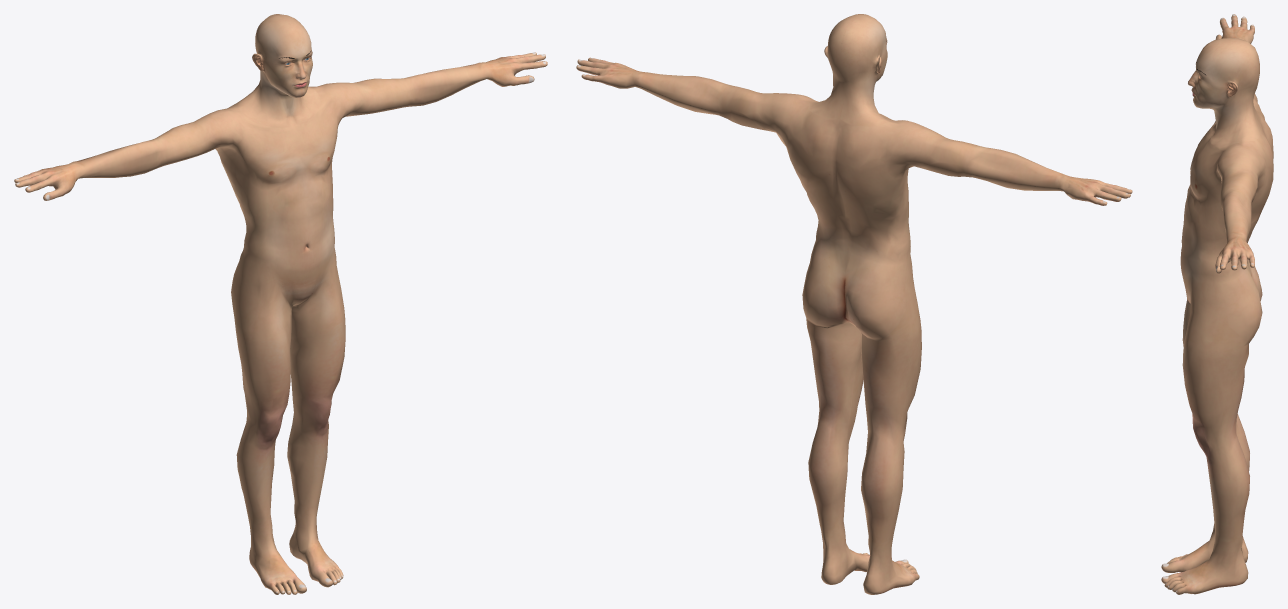
Rendered from manny.obj.
3 views of the same model, side by side, from view 1: azimuth 30°, elevation 25°; view 2: azimuth 150°, elevation 25°; view 3: azimuth 270°, elevation 25° (orthographic). The views are drawn at different scales.
Parts seen in each view (by area): view 1: l-upperleg-frontal-thigh, r-upperleg-frontal-thigh, r-lowerleg, l-lowerarm, l-lowerleg, r-lowerarm, l-hip-middle-abdomen, l-torso-upper-pectoralis, l-hip, l-upperarm-biceps, l-torso-clavicle, r-upperarm-biceps (+18 smaller); view 2: l-pelvis-gluteus, r-upperleg-thigh-back, l-upperleg-thigh-back, r-pelvis-gluteus, l-lowerleg-calf, r-lowerleg-calf, l-lowerarm, r-lowerarm, l-upperarm-triceps, l-torso-back-scapula, head-back-skull, l-upperleg-frontal-thigh (+21 smaller); view 3: r-upperleg-frontal-thigh, r-pelvis-gluteus, r-upperleg-thigh-back, r-lowerleg-calf, r-lowerleg, r-hip, r-lowerarm, r-torso-ribs, r-foot-ankle, r-torso-upper-shoulder, head-back-skull, head-upper-skull (+30 smaller).
Boxes of the visible parts, <box> form: l-upperleg-frontal-thigh: <box>236,261,291,444</box>; r-upperleg-frontal-thigh: <box>292,256,345,436</box>; r-lowerleg: <box>292,426,328,517</box>; l-lowerarm: <box>73,138,161,178</box>; l-lowerleg: <box>243,444,275,529</box>; r-lowerarm: <box>401,62,487,106</box>; l-hip-middle-abdomen: <box>266,211,307,260</box>; l-torso-upper-pectoralis: <box>240,124,301,162</box>; l-hip: <box>240,206,282,281</box>; l-upperarm-biceps: <box>156,130,233,167</box>; l-torso-clavicle: <box>228,97,295,137</box>; r-upperarm-biceps: <box>346,81,416,116</box>; l-pelvis-gluteus: <box>844,241,910,338</box>; r-upperleg-thigh-back: <box>805,315,861,447</box>; l-upperleg-thigh-back: <box>861,310,912,461</box>; r-pelvis-gluteus: <box>802,234,847,325</box>; l-lowerleg-calf: <box>861,431,902,526</box>; r-lowerleg-calf: <box>808,423,848,513</box>; l-lowerarm: <box>971,147,1066,191</box>; r-lowerarm: <box>635,72,727,115</box>; l-upperarm-triceps: <box>907,137,984,177</box>; l-torso-back-scapula: <box>853,160,913,210</box>; head-back-skull: <box>827,32,879,79</box>; l-upperleg-frontal-thigh: <box>900,255,921,458</box>; r-upperleg-frontal-thigh: <box>1182,281,1228,465</box>; r-pelvis-gluteus: <box>1214,261,1262,341</box>; r-upperleg-thigh-back: <box>1220,326,1251,465</box>; r-lowerleg-calf: <box>1221,438,1249,521</box>; r-lowerleg: <box>1207,462,1244,546</box>; r-hip: <box>1187,233,1250,290</box>; r-lowerarm: <box>1222,190,1251,241</box>; r-torso-ribs: <box>1192,202,1256,241</box>; r-foot-ankle: <box>1206,540,1245,577</box>; r-torso-upper-shoulder: <box>1222,146,1261,176</box>; head-back-skull: <box>1229,49,1259,95</box>; head-upper-skull: <box>1210,37,1255,63</box>.
Size of the model in its own units: 17.45 by 17.28 by 3.26.
Materials: 1 (1 with a texture image).
